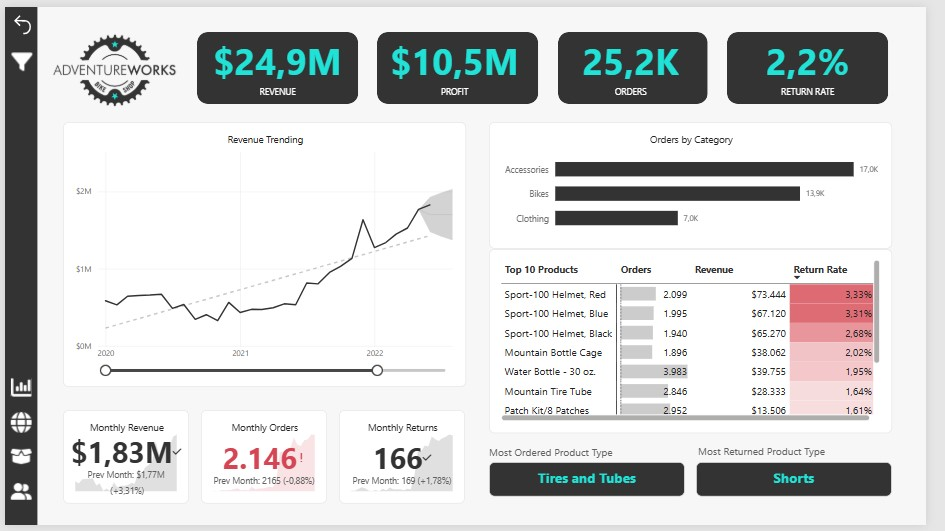

The dashboard page shown, as its layout file describes it:
{"tool":"powerbi","page":{"name":"Exec Dashboard","canvas":[1280,720],"ordinal":0},"visuals":[{"type":"image","title":"AW Logo","box":[48,32,208,112],"z":0},{"type":"group","id":"g1","title":"KPI Background","box":[267,35,960,100],"z":0,"group":"g3"},{"type":"cardVisual","fields":{"Data":["Measure Table.Total Profit"]},"box":[512.3,35,224,96],"z":0,"group":"g2"},{"type":"shape","box":[517.7,35,224,100],"z":0,"group":"g1"},{"type":"actionButton","box":[0,496,48,64],"z":0,"group":"g4"},{"type":"shape","title":"Left Nav Background","box":[0,0,45,720],"z":1000},{"type":"shape","box":[267,35,224,100],"z":1000,"group":"g1"},{"type":"group","id":"g2","title":"KPI Values","box":[267,35,960,96],"z":1000,"group":"g3"},{"type":"cardVisual","fields":{"Data":["Measure Table.Return Rate"]},"box":[1003,35,224,96],"z":1000,"group":"g2"},{"type":"actionButton","box":[0,544,48,64],"z":1000,"group":"g4"},{"type":"cardVisual","fields":{"Data":["Measure Table.Total Revenue"]},"box":[267,35,224,96],"z":2000,"group":"g2"},{"type":"shape","box":[768.3,35,208,100],"z":2000,"group":"g1"},{"type":"lineChart","title":"Revenue Trending","fields":{"Category":["Calendar Lookup.Year","Calendar Lookup.Start of Quarter","Calendar Lookup.Start of Month"],"Y":["Measure Table.Total Revenue"]},"box":[80,160,560,368],"z":2000},{"type":"actionButton","box":[0,592,48,64],"z":2000,"group":"g4"},{"type":"cardVisual","fields":{"Data":["Measure Table.Total Orders"]},"box":[757.7,35,224,96],"z":3000,"group":"g2"},{"type":"shape","box":[1003,35,224,100],"z":3000,"group":"g1"},{"type":"kpi","title":"Monthly Revenue","fields":{"Goal":["Measure Table.Previous Month Revenue"],"Indicator":["Measure Table.Total Revenue"],"TrendLine":["Calendar Lookup.Start of Month"]},"box":[80,560,175,130],"z":3000},{"type":"actionButton","box":[0,640,48,64],"z":3000,"group":"g4"},{"type":"kpi","title":"Monthly Orders","fields":{"Goal":["Measure Table.Previous Month Orders"],"Indicator":["Measure Table.Total Orders"],"TrendLine":["Calendar Lookup.Start of Month"]},"box":[272,560,175,130],"z":4000},{"type":"kpi","title":"Monthly Returns","fields":{"Goal":["Measure Table.Previous Month Returns"],"Indicator":["Measure Table.Total Returns"],"TrendLine":["Calendar Lookup.Start of Month"]},"box":[464,560,175,130],"z":5000},{"type":"group","id":"g3","title":"KPIs","box":[267,35,960,100],"z":6000},{"type":"clusteredBarChart","title":"Orders by Category","fields":{"Category":["Product Categories Lookup.CategoryName"],"Y":["Measure Table.Total Orders"]},"box":[672,160,560,176],"z":7000},{"type":"pivotTable","fields":{"Rows":["Product Lookup.ProductName"],"Values":["Measure Table.Total Orders","Measure Table.Total Revenue","Measure Table.Return Rate"]},"box":[672,336,560,256],"z":8000},{"type":"card","fields":{"Values":["Min(Product Subcategories Lookup.SubcategoryName)"]},"box":[672,632,272,48],"z":9000},{"type":"textbox","box":[672,608,192,32],"z":10000},{"type":"card","fields":{"Values":["Min(Product Subcategories Lookup.SubcategoryName)"]},"box":[960,632,272,48],"z":11000},{"type":"textbox","box":[963.2,606.7,192,32],"z":12000},{"type":"actionButton","box":[0,0,48,48],"z":13000},{"type":"group","id":"g4","title":"Navigation Buttons","box":[0,496,48,208],"z":14000},{"type":"actionButton","box":[0,56,48,40],"z":15000}]}

Visuals, with their boxes on the page's 1280x720 design canvas (x1, y1, x2, y2). These are canvas units, not pixel positions in the 945x531 screenshot, which may show the page scaled, cropped or inside an application window:
"AW Logo" image: <region>48, 32, 256, 144</region>
"KPI Background" group: <region>267, 35, 1227, 135</region>
cardVisual - Measure Table.Total Profit: <region>512, 35, 736, 131</region>
shape: <region>518, 35, 742, 135</region>
actionButton: <region>0, 496, 48, 560</region>
"Left Nav Background" shape: <region>0, 0, 45, 720</region>
shape: <region>267, 35, 491, 135</region>
"KPI Values" group: <region>267, 35, 1227, 131</region>
cardVisual - Measure Table.Return Rate: <region>1003, 35, 1227, 131</region>
actionButton: <region>0, 544, 48, 608</region>
cardVisual - Measure Table.Total Revenue: <region>267, 35, 491, 131</region>
shape: <region>768, 35, 976, 135</region>
"Revenue Trending" lineChart: <region>80, 160, 640, 528</region>
actionButton: <region>0, 592, 48, 656</region>
cardVisual - Measure Table.Total Orders: <region>758, 35, 982, 131</region>
shape: <region>1003, 35, 1227, 135</region>
"Monthly Revenue" kpi: <region>80, 560, 255, 690</region>
actionButton: <region>0, 640, 48, 704</region>
"Monthly Orders" kpi: <region>272, 560, 447, 690</region>
"Monthly Returns" kpi: <region>464, 560, 639, 690</region>
"KPIs" group: <region>267, 35, 1227, 135</region>
"Orders by Category" clusteredBarChart: <region>672, 160, 1232, 336</region>
pivotTable - Product Lookup.ProductName x Measure Table.Total Orders: <region>672, 336, 1232, 592</region>
card - Min(Product Subcategories Lookup.SubcategoryName): <region>672, 632, 944, 680</region>
textbox: <region>672, 608, 864, 640</region>
card - Min(Product Subcategories Lookup.SubcategoryName): <region>960, 632, 1232, 680</region>
textbox: <region>963, 607, 1155, 639</region>
actionButton: <region>0, 0, 48, 48</region>
"Navigation Buttons" group: <region>0, 496, 48, 704</region>
actionButton: <region>0, 56, 48, 96</region>
